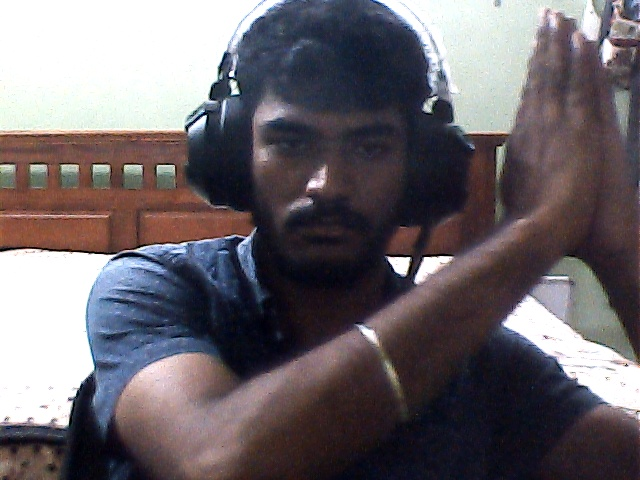Sign: (474, 9, 636, 264)
